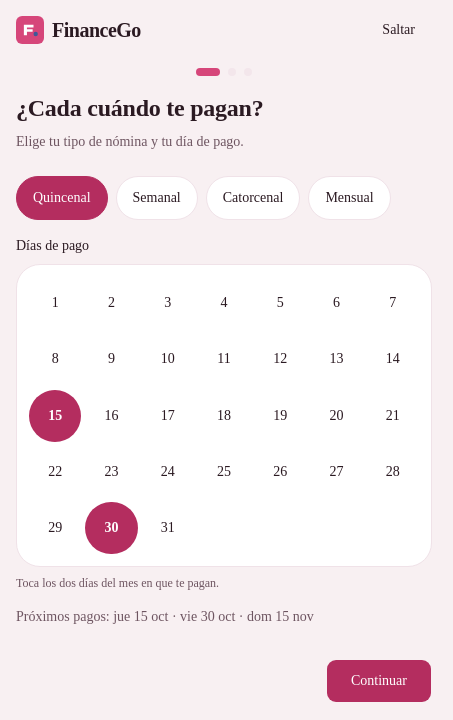
Test case: WelcomeFlow › requires an amount before continuing
The image size is (453, 720).
Click the button "Continuar".
click(379, 682)  # box x1=326 y1=660 x2=432 y2=704
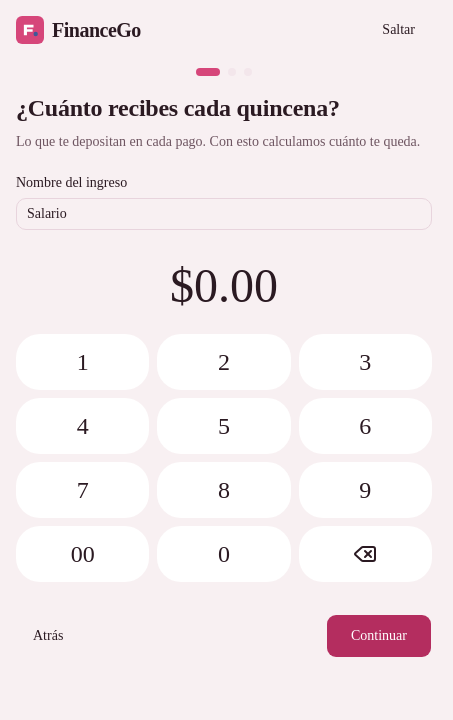
Expected: the heading "¿Cuánto recibes cada quincena?" is shown, x1=16 y1=95 x2=340 y2=121
Click the button "Continuar".
click(379, 636)  # box x1=326 y1=614 x2=432 y2=658
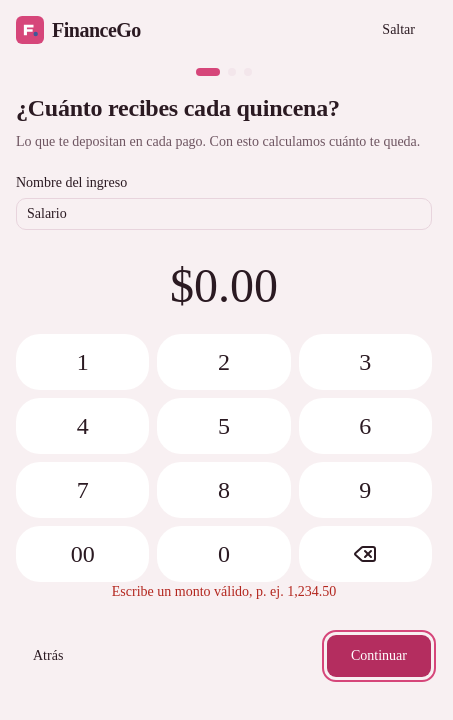
Expected: the text "Escribe un monto válido, p. ej. 1,234.50" is shown, x1=112 y1=584 x2=336 y2=599
